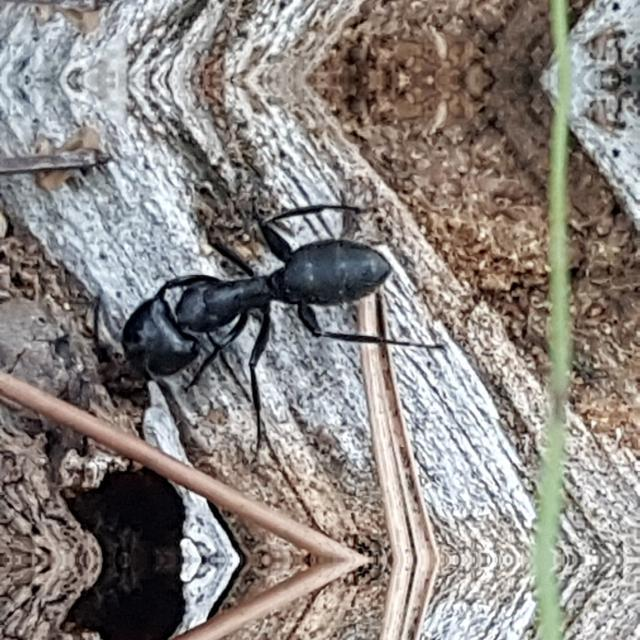Camponotus: (78, 188, 440, 406)
